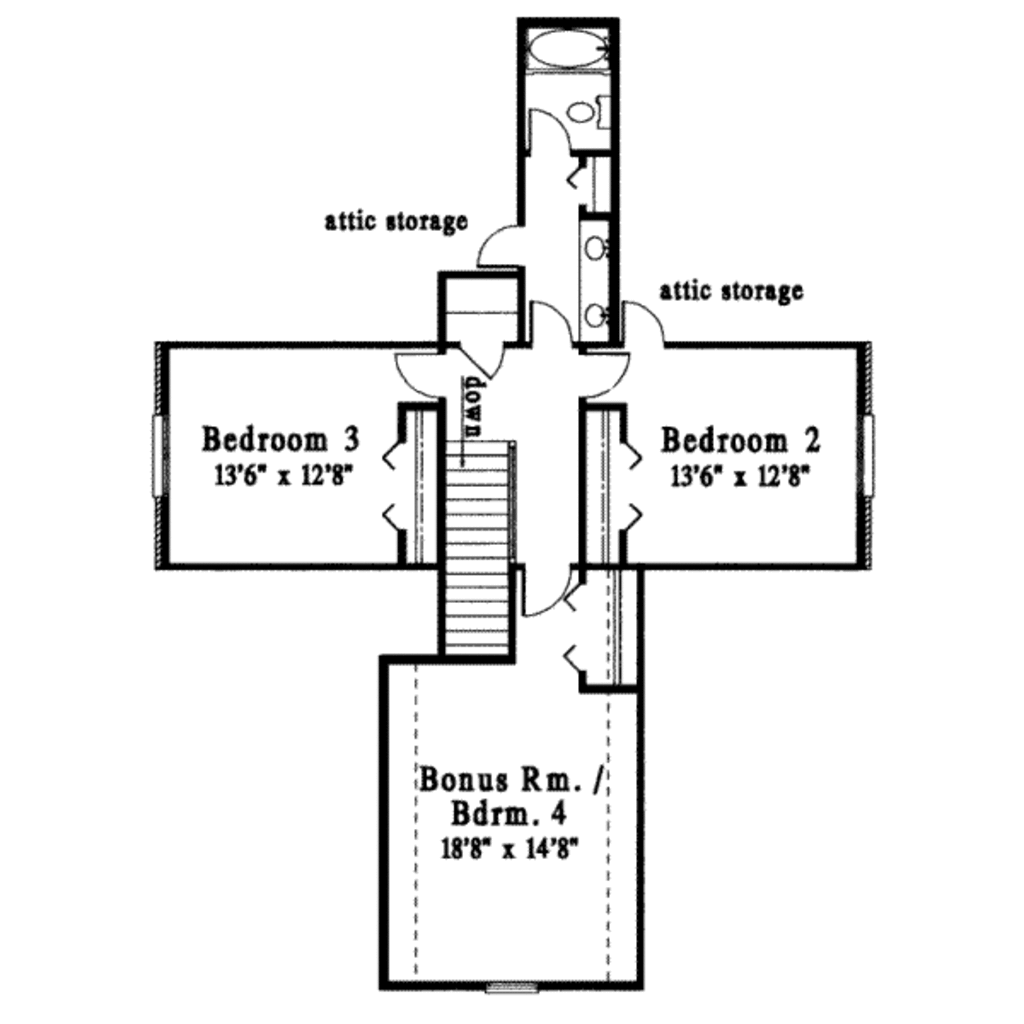door: (381, 346, 464, 407), (611, 294, 678, 366), (455, 324, 519, 385), (517, 561, 580, 614), (525, 108, 577, 171), (575, 344, 634, 394), (511, 303, 578, 347), (469, 225, 527, 269)
large_sink: (567, 78, 625, 144)
small_sink: (577, 217, 617, 342)
stairs: (434, 430, 519, 674)
tub: (513, 13, 613, 78)
window: (136, 407, 191, 524), (850, 417, 878, 503), (488, 980, 548, 991)
